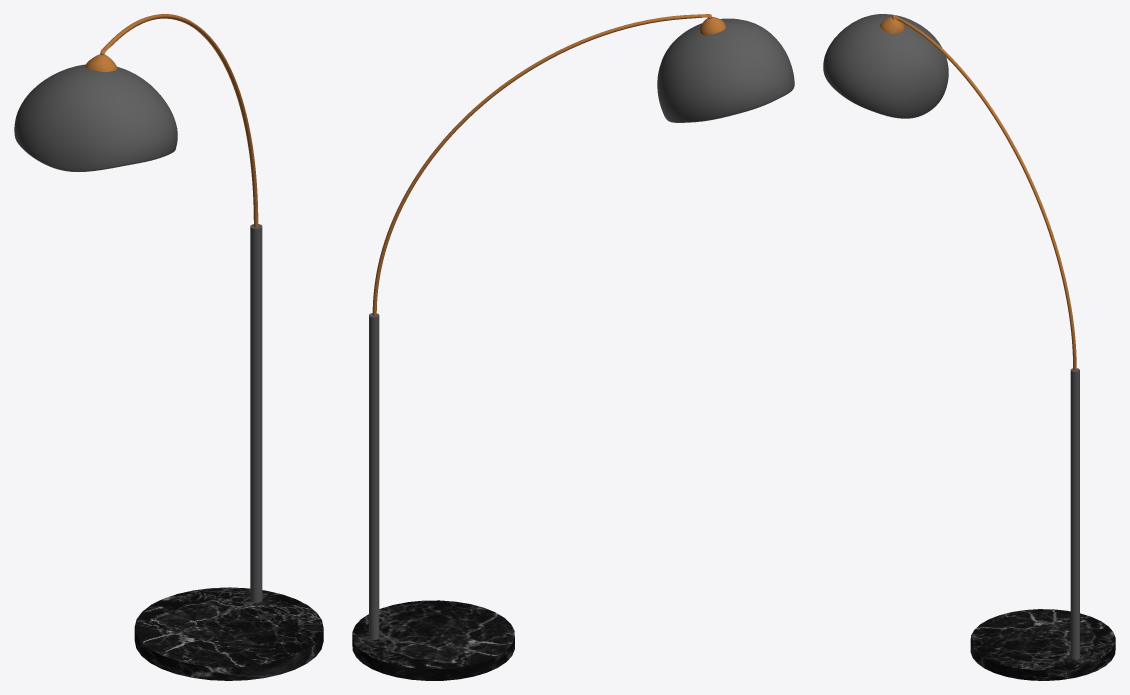
File: Floor_Lamp_small.glb
3 renders of one model, left to right at view 1: azimuth 30°, elevation 25°; view 2: azimuth 150°, elevation 25°; view 3: azimuth 270°, elevation 25°, orthographic. The views are drawn at different scales.
Parts seen in each view (by area): view 1: Lamp1; view 2: Lamp1; view 3: Lamp1.
Part boxes in pixels (box(x1,y1,x2,y2)): Lamp1: box(14, 14, 323, 680); Lamp1: box(352, 14, 794, 680); Lamp1: box(823, 14, 1115, 680).
Bounding box in the file's own units: 0.9405 × 1.66 × 0.7982.
5 materials, 1 textured.
